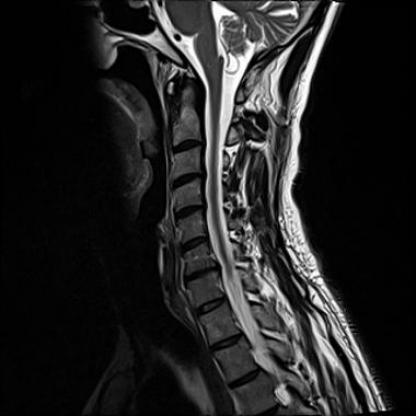Disc Bulgerotation: (183, 267, 221, 281), (172, 204, 205, 220)
